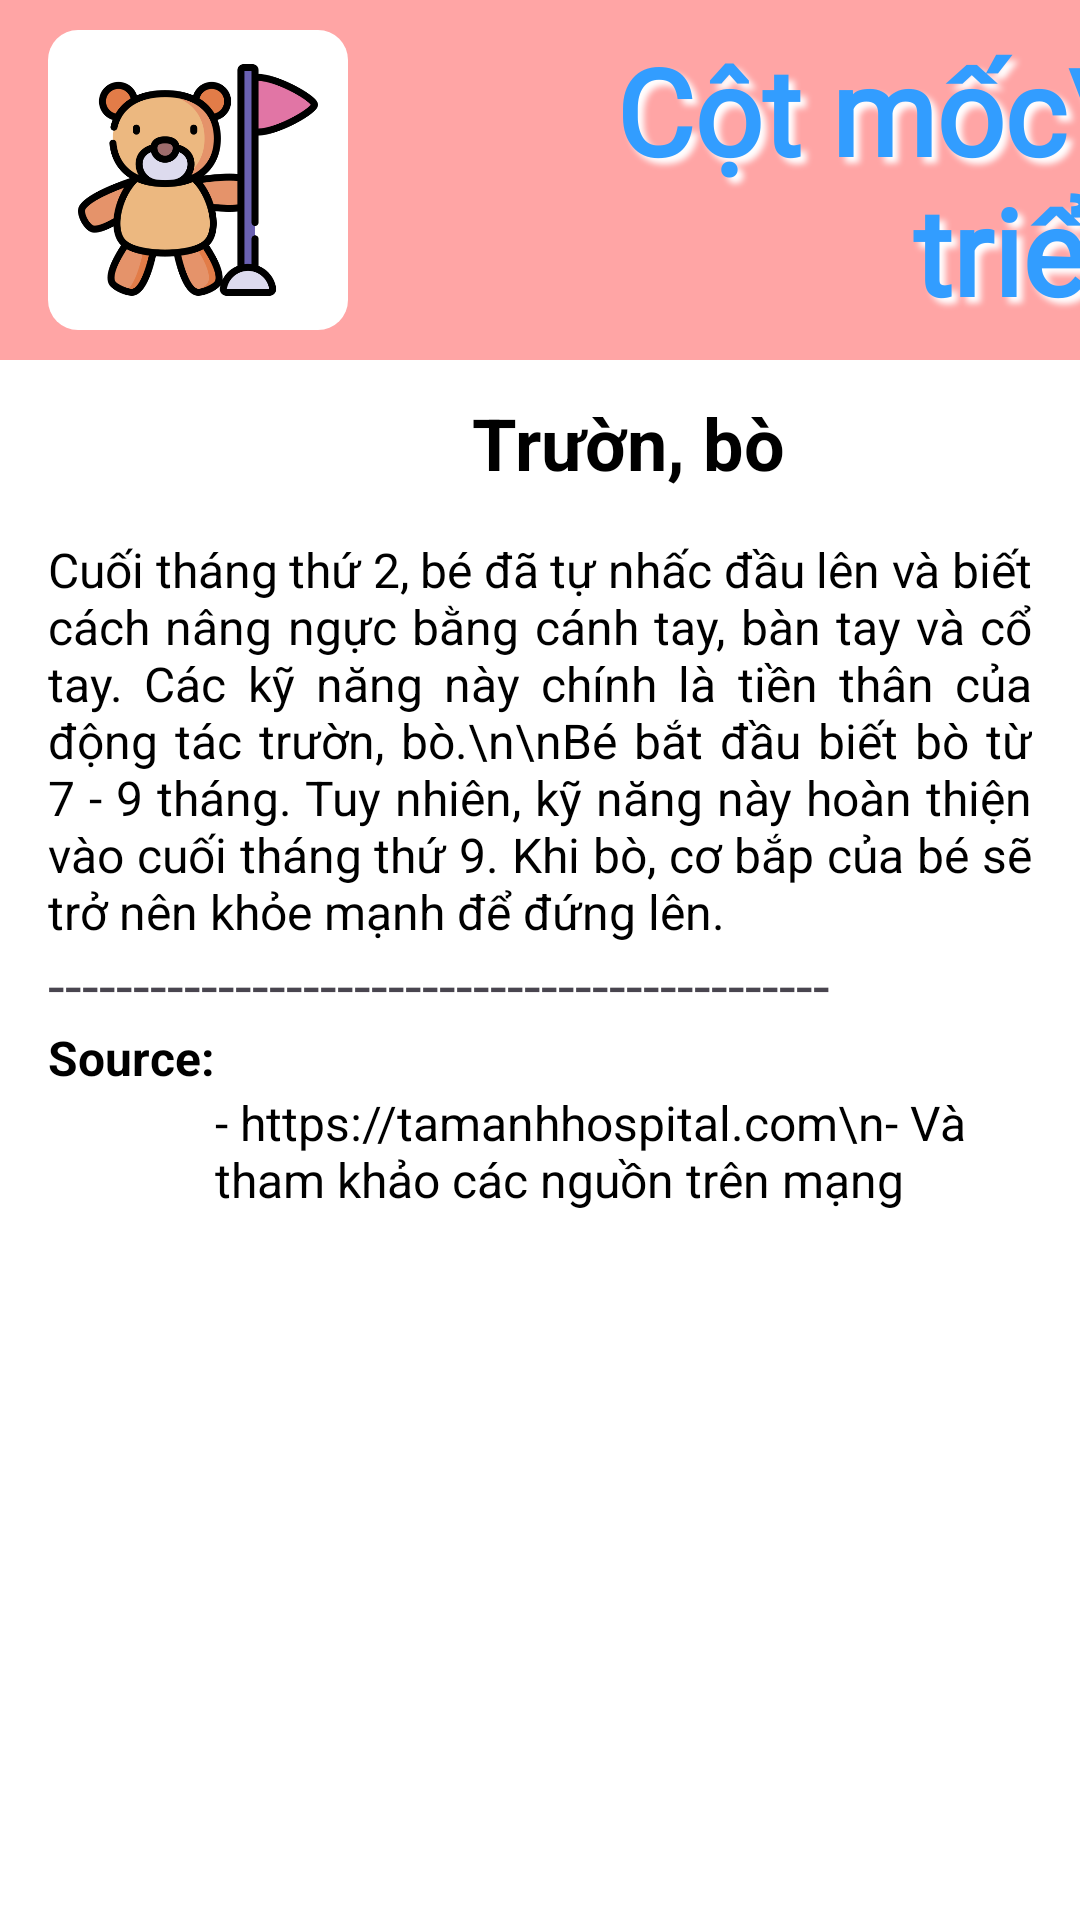

Point at icon controls on the screen. Image size 1080x1920, points as (x,y).
babymilestone: (198,180)
